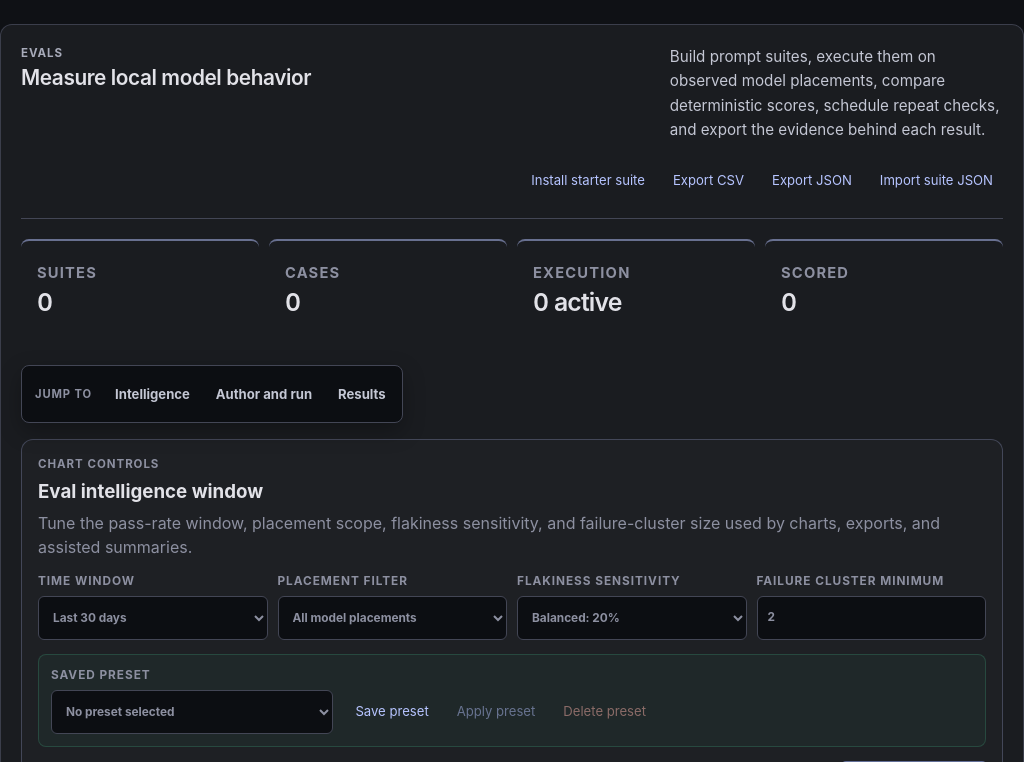
Test: EvalsPage › installs the starter smoke suite without manual authoring
The width and height of the screenshot is (1024, 762).
Click the button "Install starter suite".
click(588, 180)  # box [521,158,655,202]
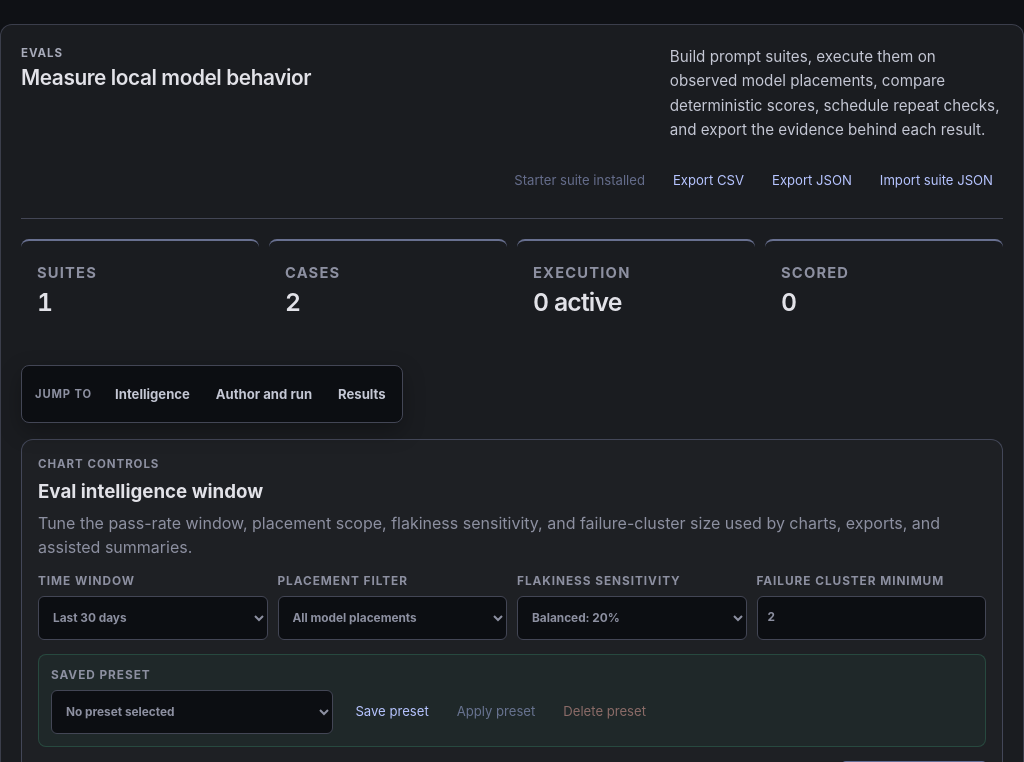
Result: the button "Starter suite installed" is disabled at [504,158,655,202]
